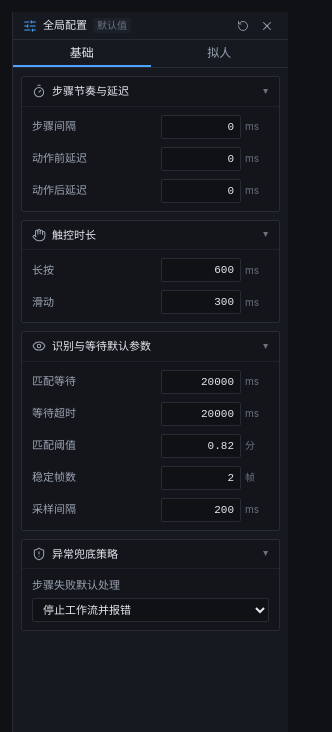
FlowGlobalSettingsDrawer 基础 / 拟人 Tab › 默认打开基础列，拟人参数在另一个 Tab
Expected: the element with test id "global-settings-pane-basic" is shown, [21, 76, 280, 630]
Expected: the text "步骤间隔" is shown, [32, 119, 76, 133]
What coordinates should you click on to do the following:
click the tab with test id "global-settings-tab-human"
I would click on:
 (219, 54)
Its box is [150, 40, 288, 67].
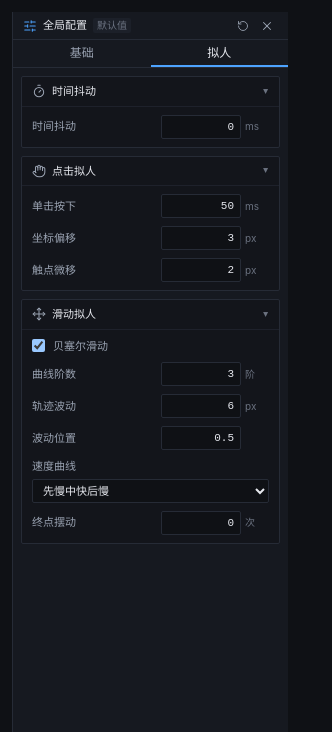
Expected: the element with test id "global-settings-pane-human" is shown, [21, 76, 280, 544]
Expected: the text "坐标偏移" is shown, [32, 231, 76, 245]
Expected: the text "触点微移" is shown, [32, 263, 76, 277]
